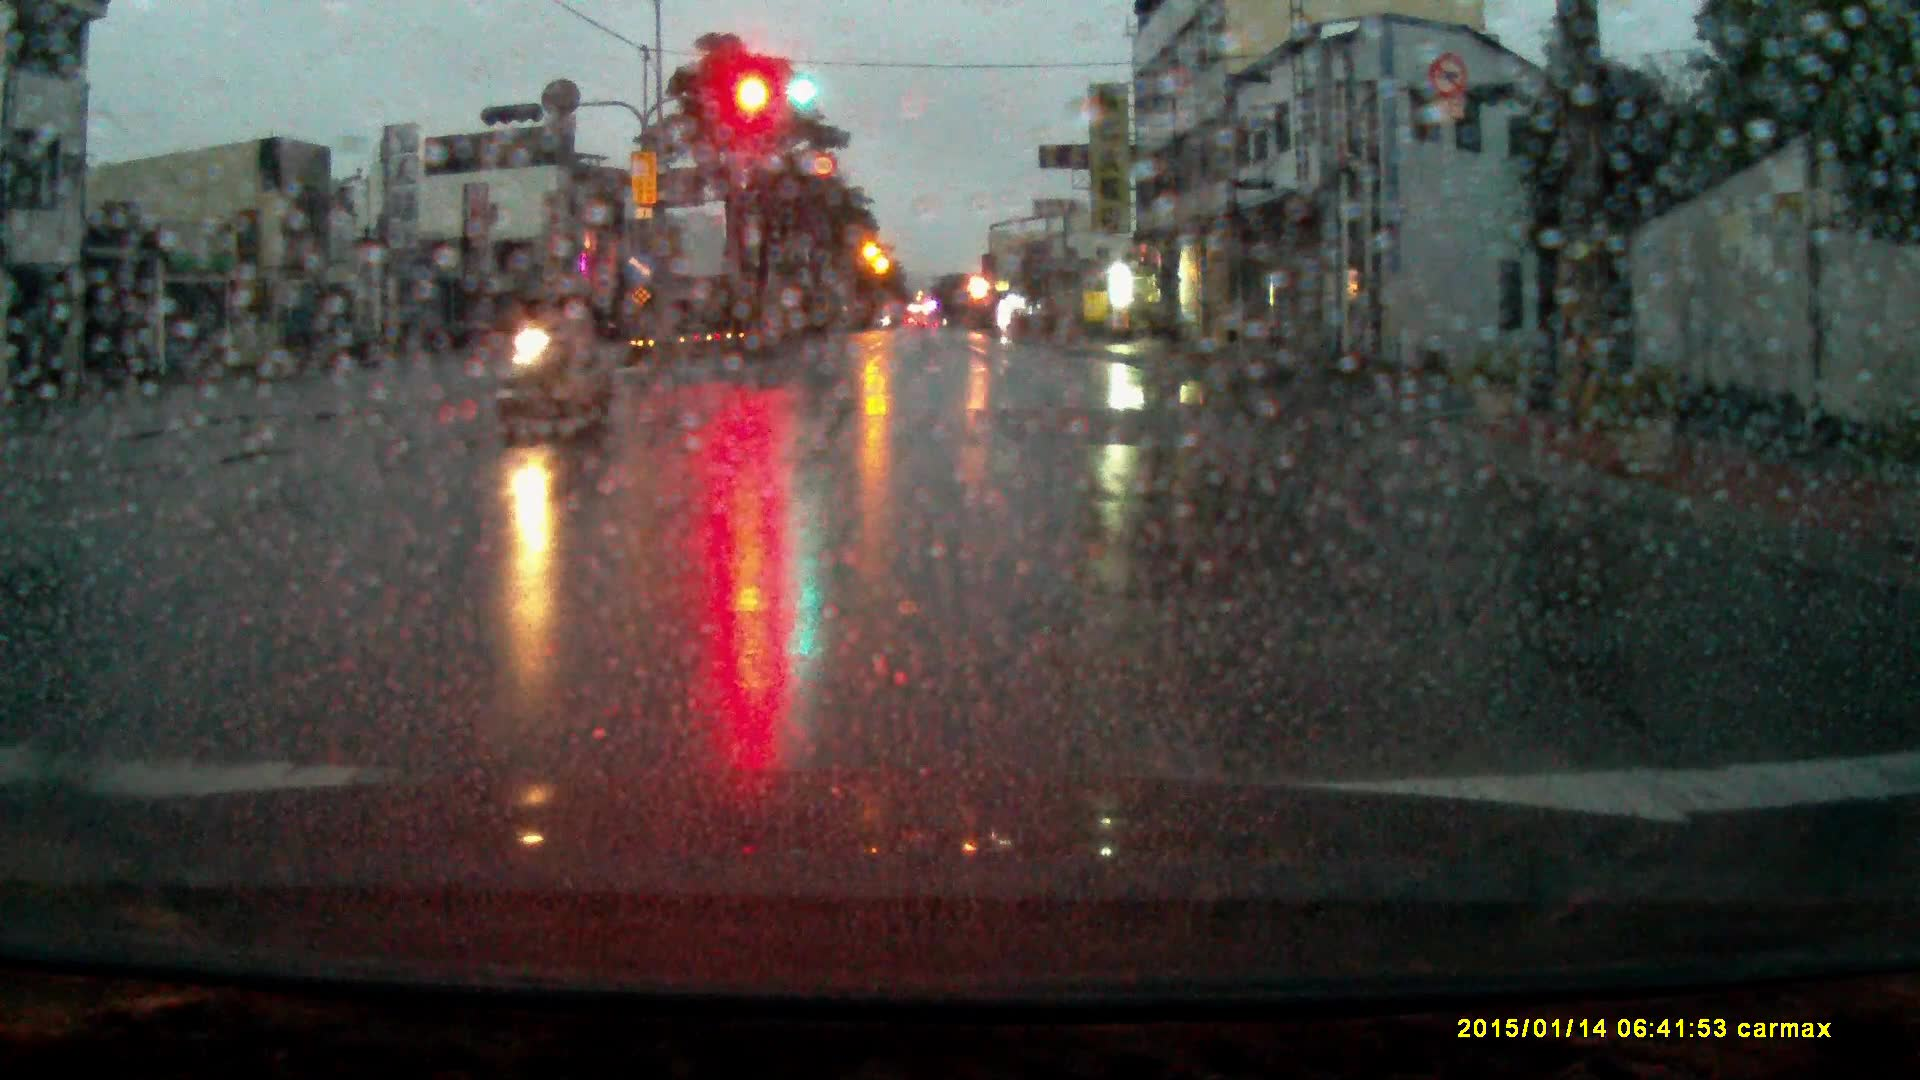rider: (489, 265, 618, 440)
